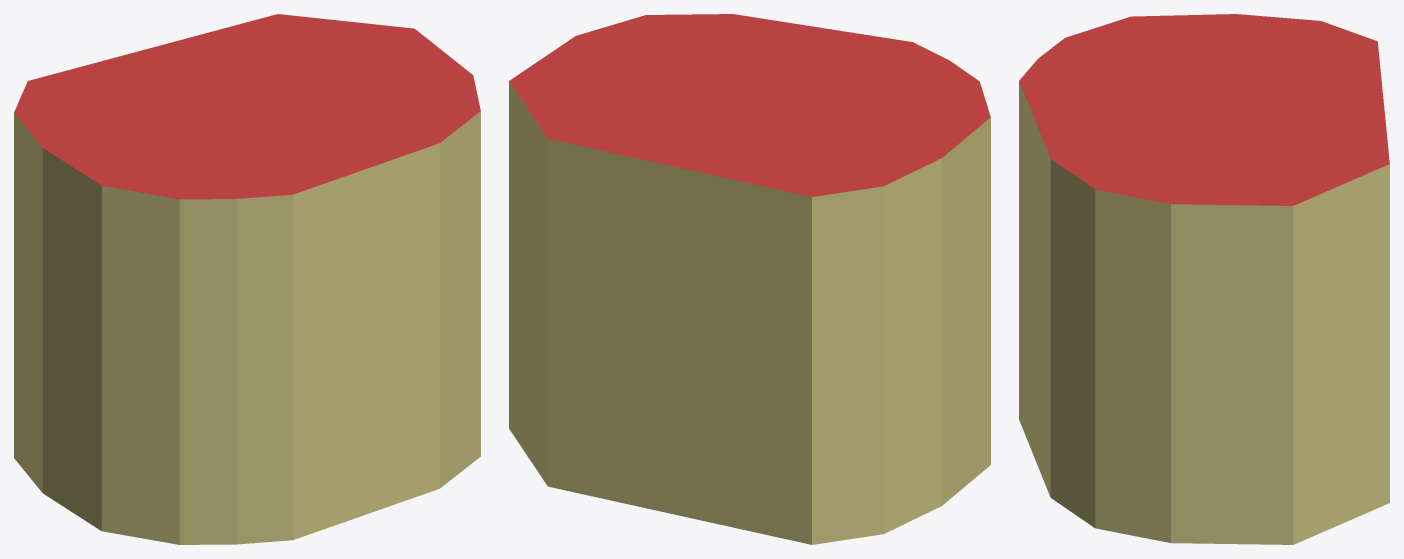
The picture shows the model from 3 angles, left to right: view 1: azimuth 30°, elevation 25°; view 2: azimuth 150°, elevation 25°; view 3: azimuth 270°, elevation 25°; orthographic projection. The views are drawn at different scales.
Size of the model in its own units: 8.71 by 7.11 by 7.17.
